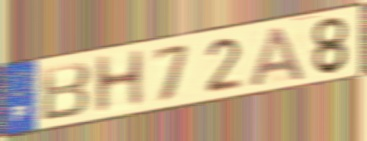2: (204, 36, 245, 95)
7: (152, 41, 193, 103)
8: (311, 15, 349, 76)
A: (248, 25, 308, 89)
B: (40, 59, 93, 124)
H: (92, 47, 147, 118)
